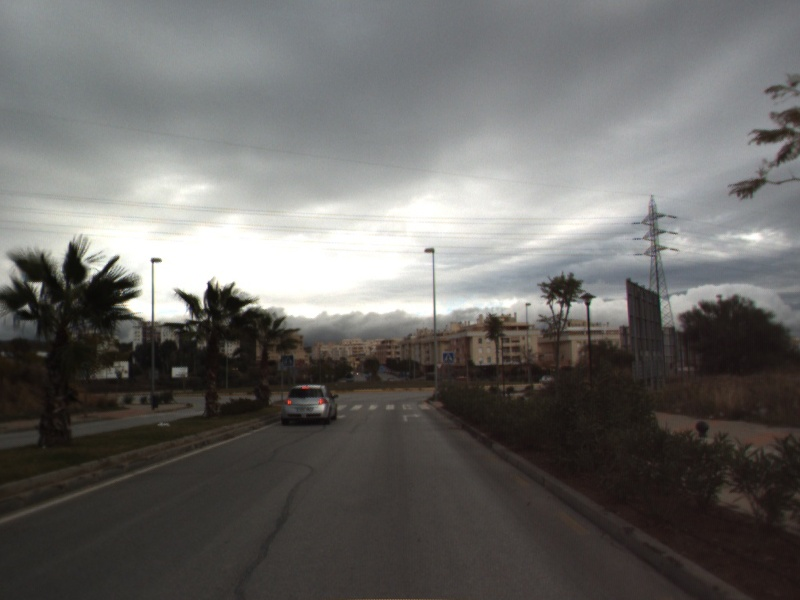RIGHT: (400, 411, 423, 424)
